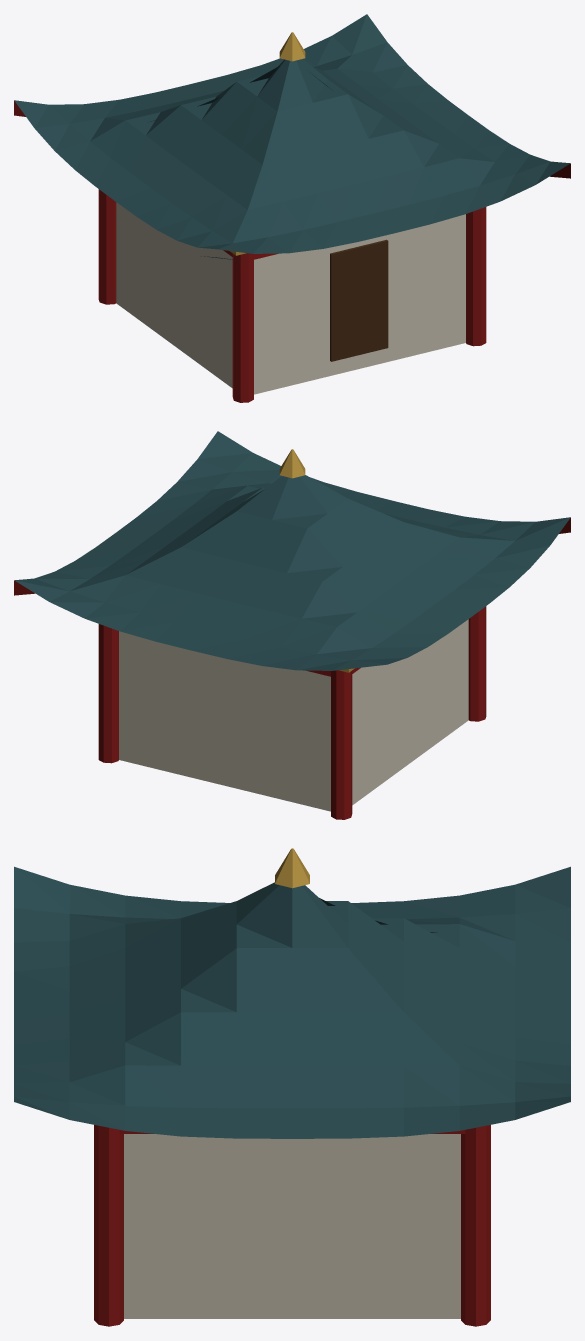
Rendered from pagoda-tier-large.glb.
3 renders of one model, top to bottom at view 1: azimuth 30°, elevation 25°; view 2: azimuth 150°, elevation 25°; view 3: azimuth 270°, elevation 25°, orthographic. The views are drawn at different scales.
Visible parts, largest first — view 1: pagoda-tier-large; view 2: pagoda-tier-large; view 3: pagoda-tier-large.
Boxes of the visible parts, box(x1,y1,x2,y2) form: pagoda-tier-large: box(14, 14, 570, 402); pagoda-tier-large: box(14, 431, 570, 819); pagoda-tier-large: box(14, 848, 570, 1326).
Size of the model in its own units: 8.2 by 6.4 by 8.2.
